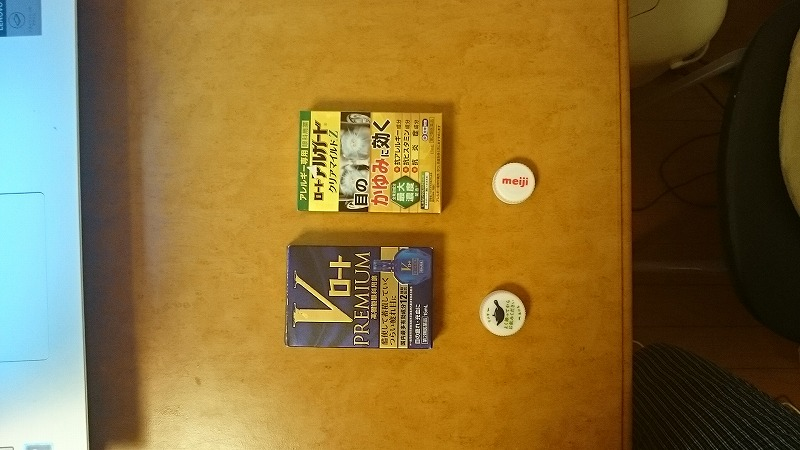A: (470, 283, 539, 341)
B: (491, 155, 544, 204)
C: (298, 106, 448, 219)
D: (280, 239, 437, 357)
